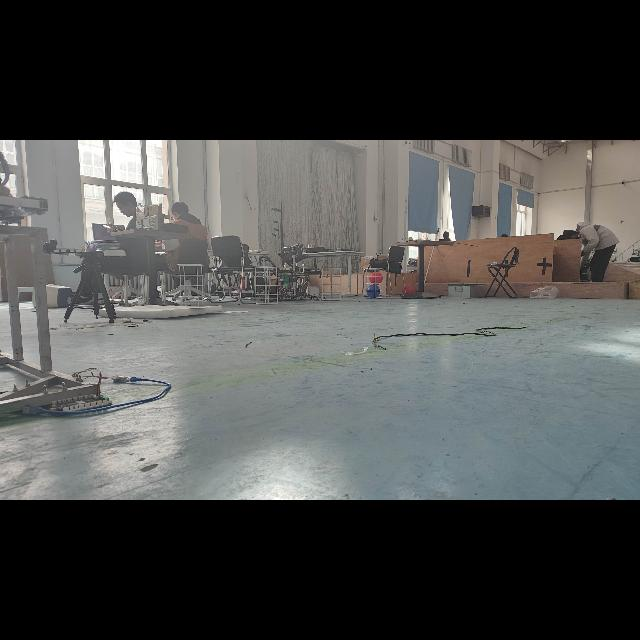B: (366, 284, 380, 296)
R: (370, 271, 382, 285)
S: (175, 262, 209, 312), (253, 264, 281, 308), (320, 266, 344, 304), (362, 266, 386, 300)
